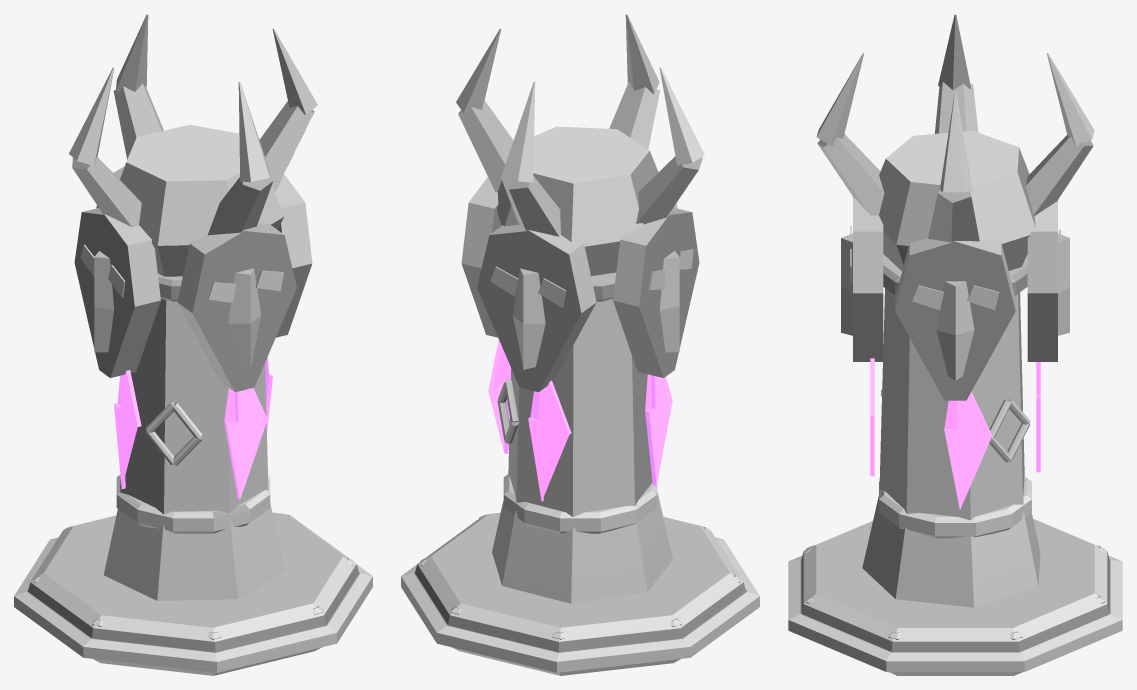
File: hex.glb
3 renders of one model, left to right at view 1: azimuth 30°, elevation 25°; view 2: azimuth 150°, elevation 25°; view 3: azimuth 270°, elevation 25°, orthographic.
Visible parts, largest first — view 1: hex.001; view 2: hex.001; view 3: hex.001.
Part boxes in pixels (x1,y1,x2,y2): hex.001: (14, 14, 372, 675); hex.001: (401, 14, 759, 675); hex.001: (788, 14, 1122, 675).
Size of the model in its own units: 1.05 by 1.96 by 1.05.
